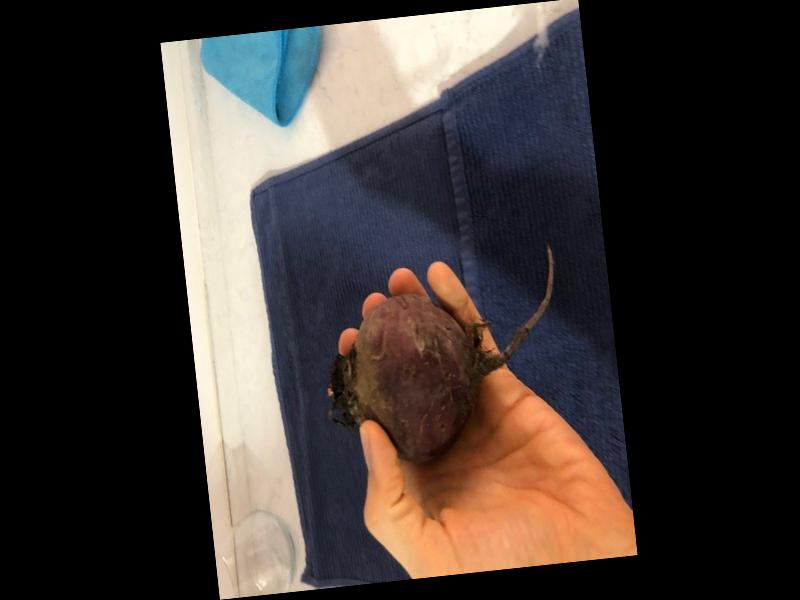Beet: (314, 241, 573, 473)
